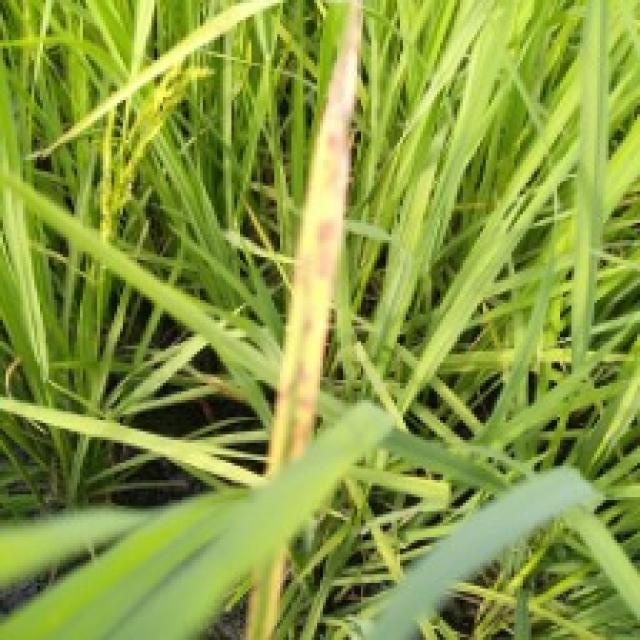Bacterial_Blight: (286, 8, 372, 448)
